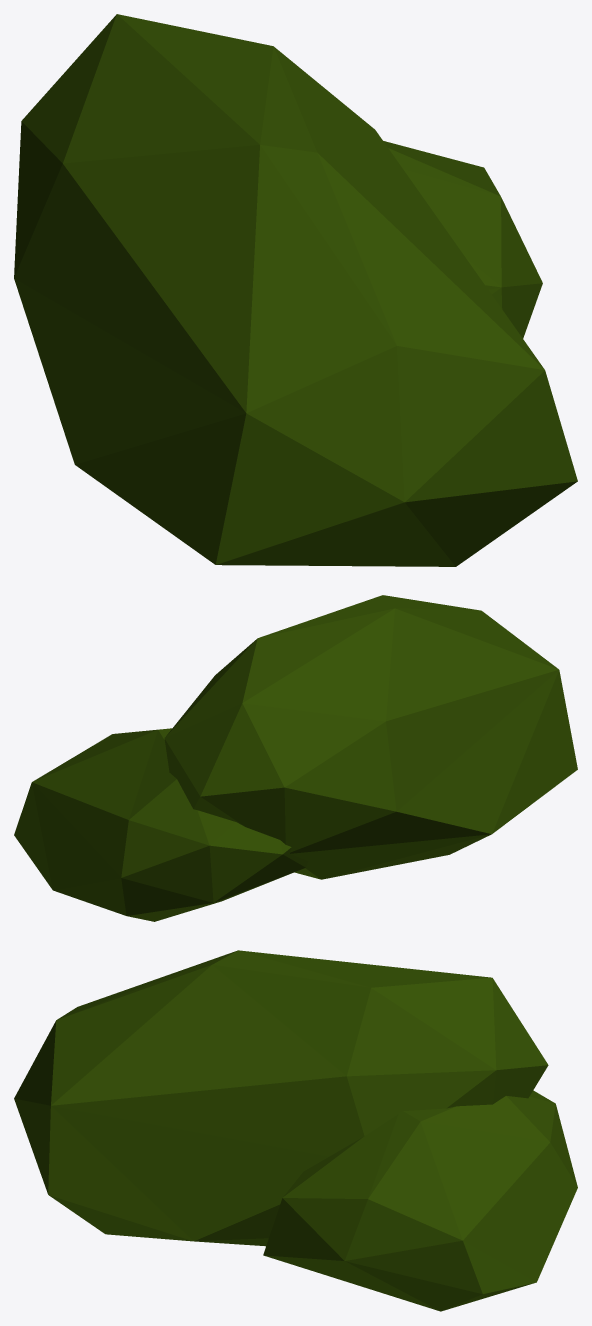
File: Bush.007.fbx
3 renders of one model, top to bottom at view 1: azimuth 30°, elevation 25°; view 2: azimuth 150°, elevation 25°; view 3: azimuth 270°, elevation 25°, orthographic. The views are drawn at different scales.
Parts seen in each view (by area): view 1: Bush.007; view 2: Bush.007; view 3: Bush.007.
Boxes of the visible parts, x1,y1,x2,y2 form: Bush.007: [14, 14, 577, 566]; Bush.007: [14, 595, 577, 921]; Bush.007: [14, 950, 577, 1311].
Size of the model in its own units: 0.8595 by 0.5488 by 1.09.
